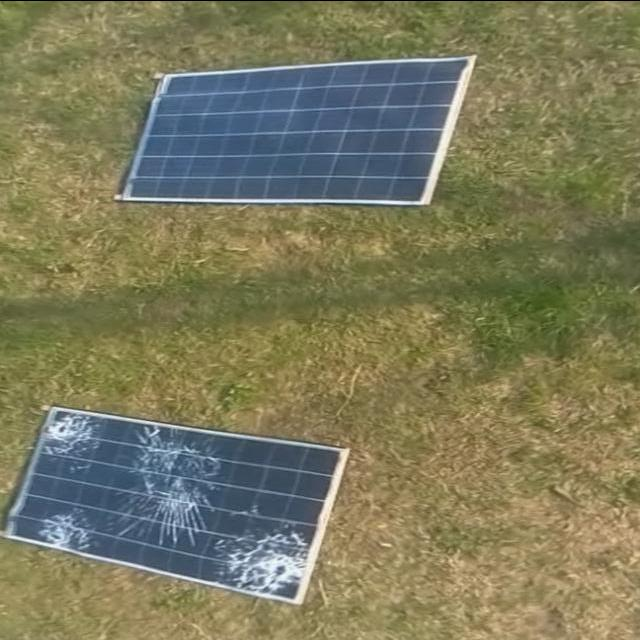cracked: (6, 400, 346, 606)
